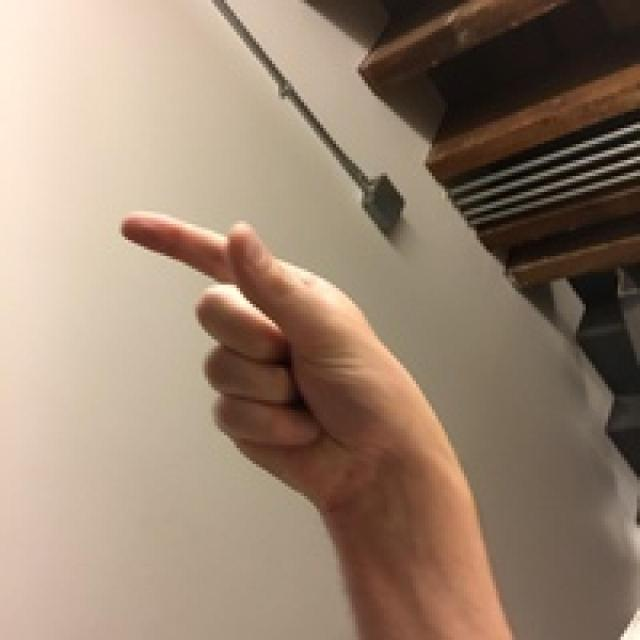G: (115, 164, 474, 543)
